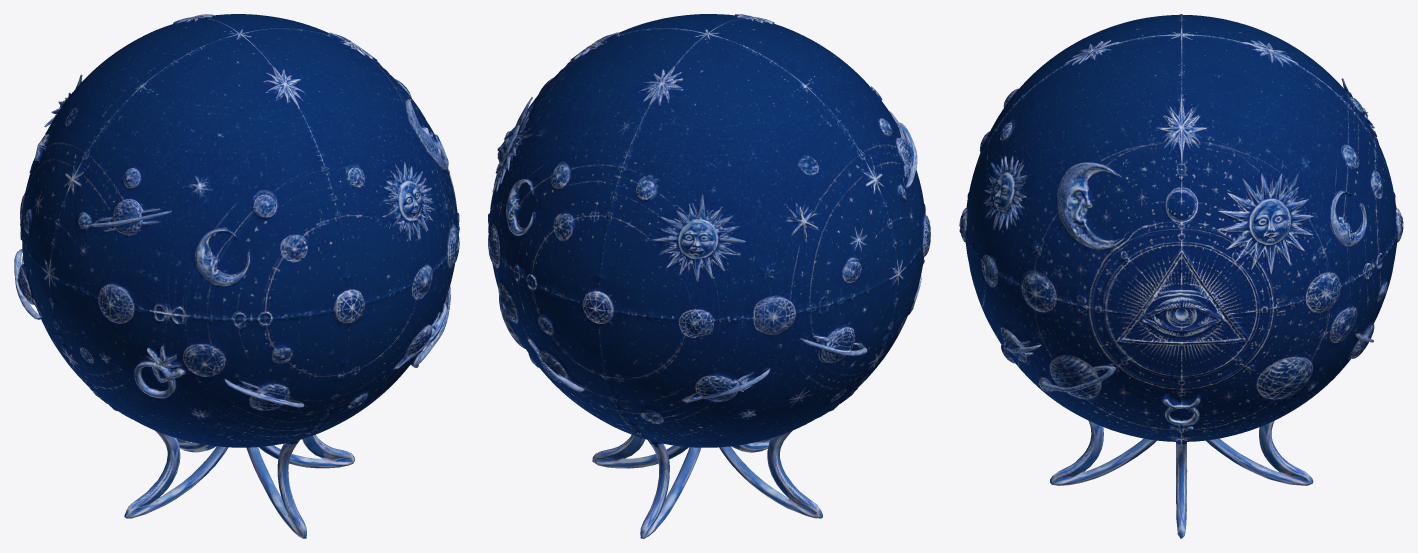
The model's file is ball.glb.
3 renders of one model, left to right at view 1: azimuth 30°, elevation 25°; view 2: azimuth 150°, elevation 25°; view 3: azimuth 270°, elevation 25°, orthographic.
Visible parts, largest first — view 1: tripo_node_47ef1b9d-31ba-41b0-8902-528d3dd71340; view 2: tripo_node_47ef1b9d-31ba-41b0-8902-528d3dd71340; view 3: tripo_node_47ef1b9d-31ba-41b0-8902-528d3dd71340.
Boxes of the visible parts, x1,y1,x2,y2 form: tripo_node_47ef1b9d-31ba-41b0-8902-528d3dd71340: (14, 14, 459, 538); tripo_node_47ef1b9d-31ba-41b0-8902-528d3dd71340: (488, 14, 930, 538); tripo_node_47ef1b9d-31ba-41b0-8902-528d3dd71340: (959, 14, 1403, 538).
Bounding box in the file's own units: 0.8593 × 0.9798 × 0.8724.
Materials: 1 (1 with a texture image).
